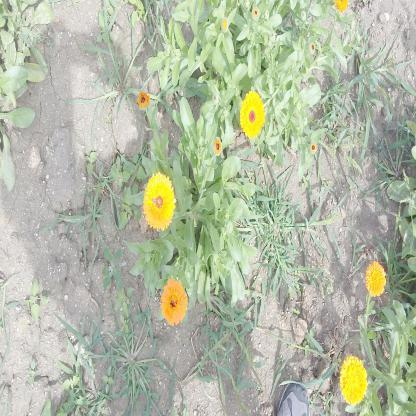marigold: (143, 172, 176, 230), (338, 353, 368, 406), (160, 277, 187, 327), (240, 90, 266, 139), (364, 258, 386, 298)
